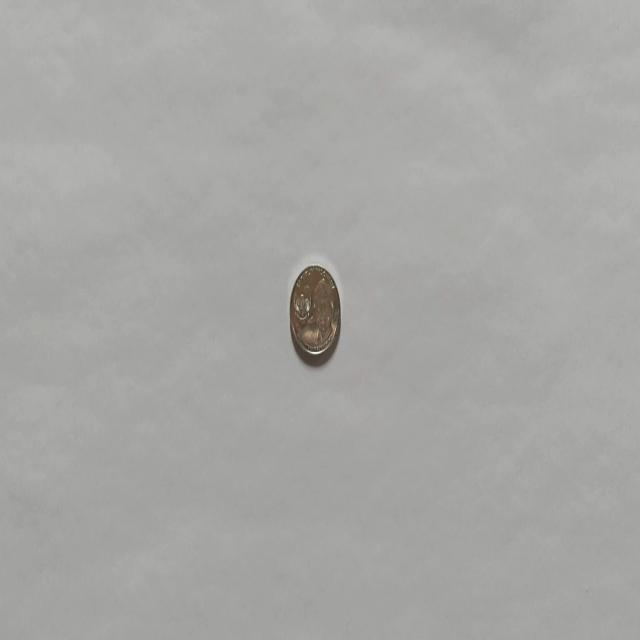dua ratus rupiah: (288, 262, 340, 358)
